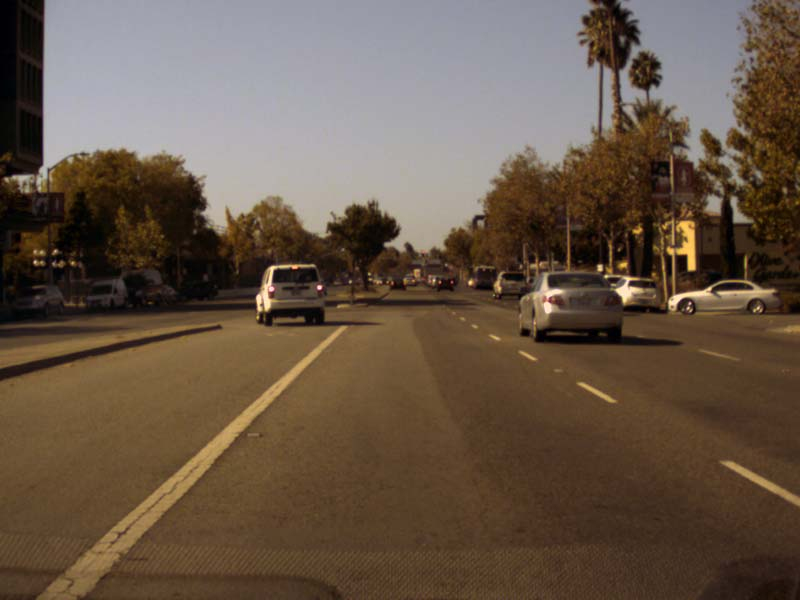Red: (421, 250, 424, 257)
